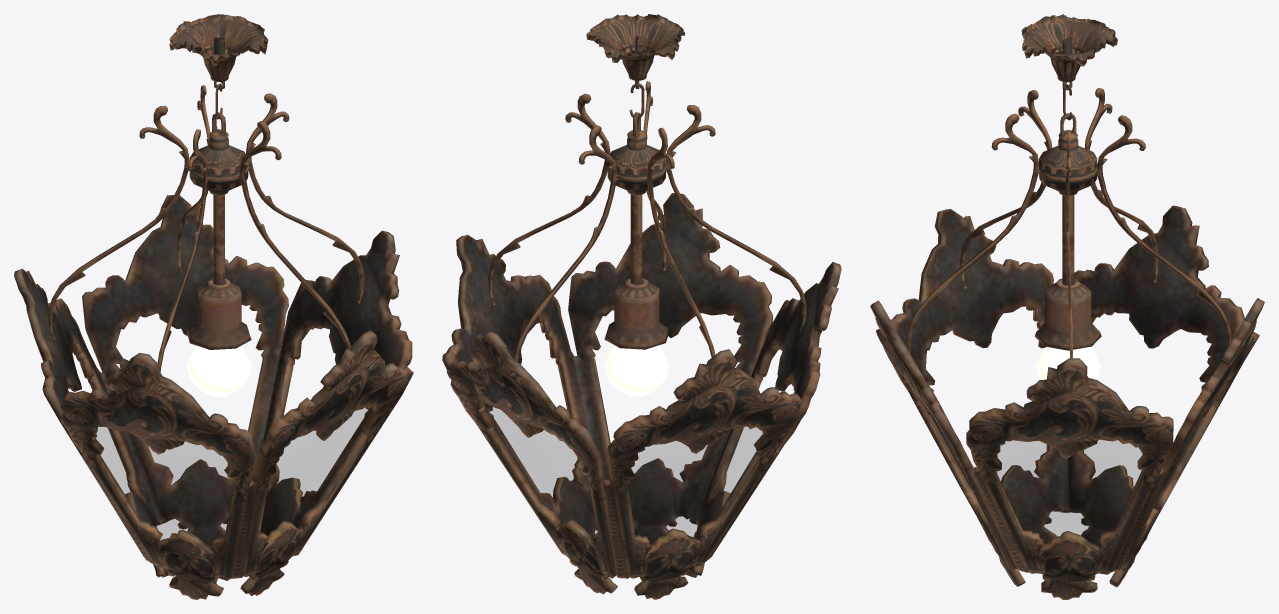
The picture shows the model from 3 angles, left to right: view 1: azimuth 30°, elevation 25°; view 2: azimuth 150°, elevation 25°; view 3: azimuth 270°, elevation 25°; orthographic projection.
Visible parts, largest first — view 1: lantern_chandelier_01; view 2: lantern_chandelier_01; view 3: lantern_chandelier_01.
Part boxes in pixels (x1,y1,x2,y2): lantern_chandelier_01: (14,14,413,599); lantern_chandelier_01: (442,14,841,599); lantern_chandelier_01: (870,14,1264,599).
Bounding box in the file's own units: 0.5792 × 0.8776 × 0.5746.
3 materials, 2 textured.
